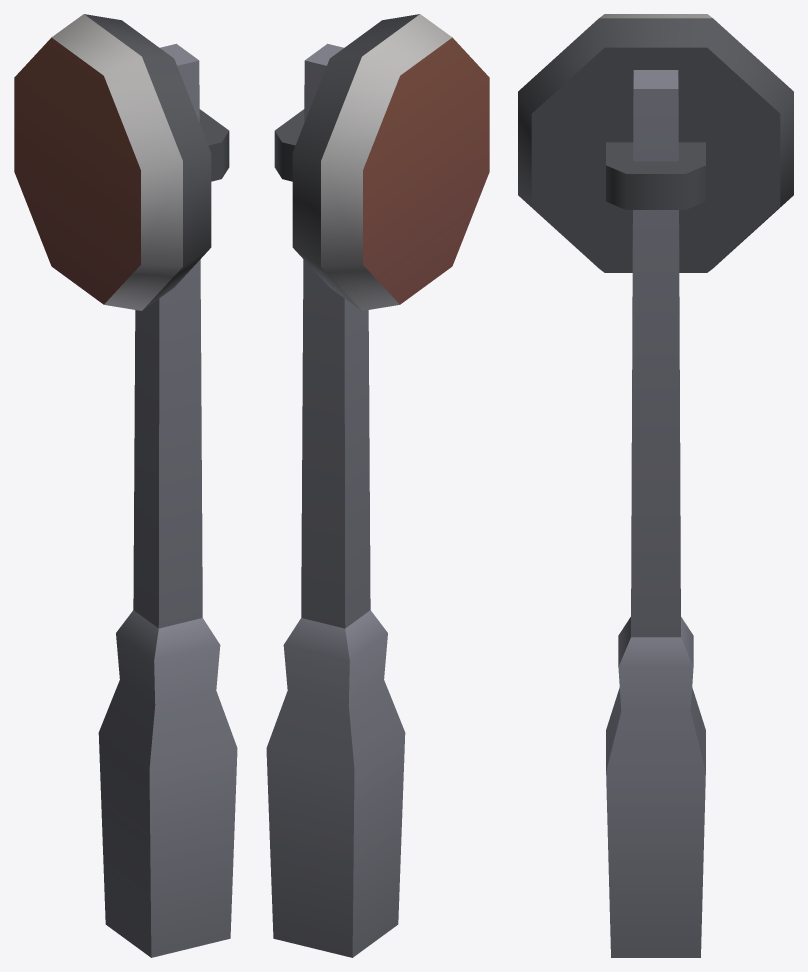
File: sign_stop.glb
3 renders of one model, left to right at view 1: azimuth 30°, elevation 25°; view 2: azimuth 150°, elevation 25°; view 3: azimuth 270°, elevation 25°, orthographic.
Parts seen in each view (by area): view 1: road-sign-stop; view 2: road-sign-stop; view 3: road-sign-stop.
Part boxes in pixels (x1,y1,x2,y2): road-sign-stop: (14, 14, 237, 957); road-sign-stop: (266, 14, 489, 957); road-sign-stop: (518, 14, 793, 957).
Size of the model in its own units: 0.62 by 3.95 by 1.11.
Materials: 1 (1 with a texture image).
